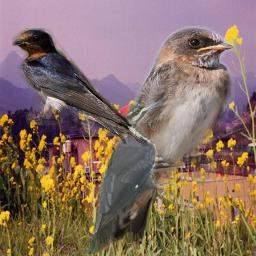Swallow: (95, 25, 235, 245), (12, 28, 154, 150)
Woodpecker: (82, 96, 172, 254)
